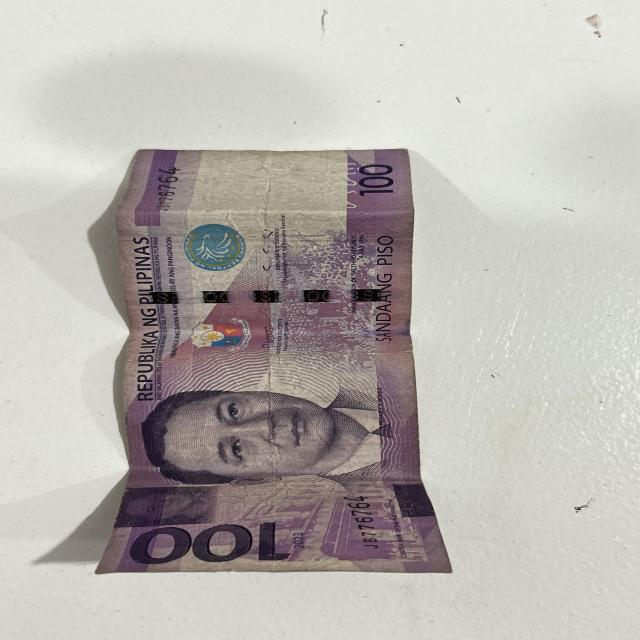concealed_value: (126, 485, 217, 525)
security_thread: (120, 288, 409, 304)
see_through_mark: (328, 152, 360, 220)
serial_number: (334, 479, 386, 567), (150, 156, 182, 232)
value: (124, 508, 287, 575)
